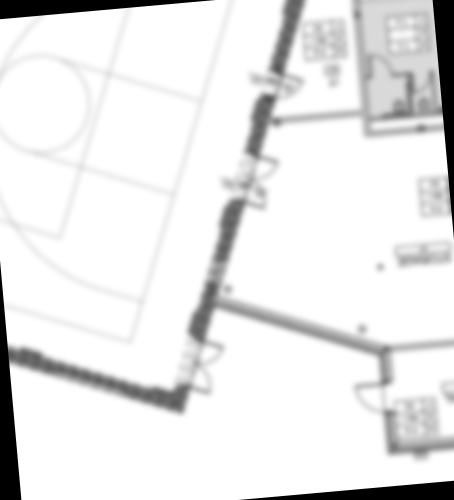door: (351, 380, 389, 416), (270, 69, 307, 101), (366, 52, 394, 81), (410, 69, 434, 95)
double door: (182, 333, 230, 398), (239, 152, 284, 212)
wall: (213, 278, 391, 365), (347, 0, 375, 140), (265, 107, 375, 126), (361, 123, 443, 140), (370, 108, 442, 124), (391, 434, 454, 451), (389, 338, 454, 354), (385, 406, 401, 450), (382, 344, 396, 385)
window: (48, 349, 130, 413)
